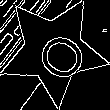O_NW: (21, 19, 86, 83)
